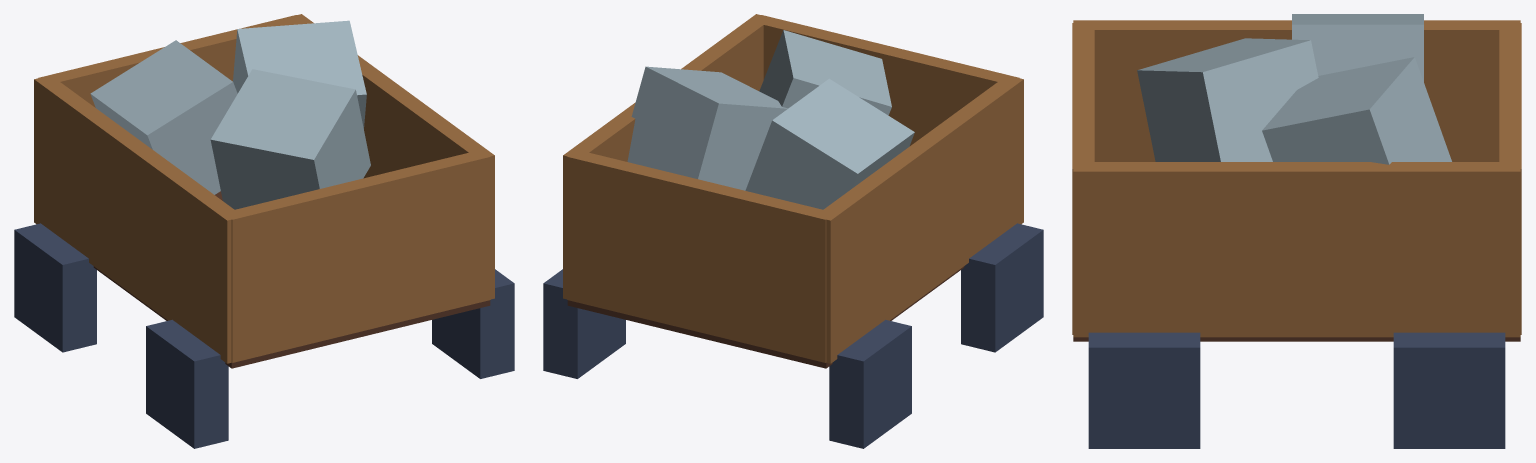
Rendered from IronveilOreCart.glb.
3 renders of one model, left to right at view 1: azimuth 30°, elevation 25°; view 2: azimuth 150°, elevation 25°; view 3: azimuth 270°, elevation 25°, orthographic. The views are drawn at different scales.
Parts seen in each view (by area): view 1: IronveilOreCart; view 2: IronveilOreCart; view 3: IronveilOreCart.
Part boxes in pixels (x1,y1,x2,y2): IronveilOreCart: (14, 14, 514, 448); IronveilOreCart: (543, 14, 1043, 448); IronveilOreCart: (1072, 14, 1521, 448).
Bounding box in the file's own units: 4.21 × 3.42 × 4.42.
